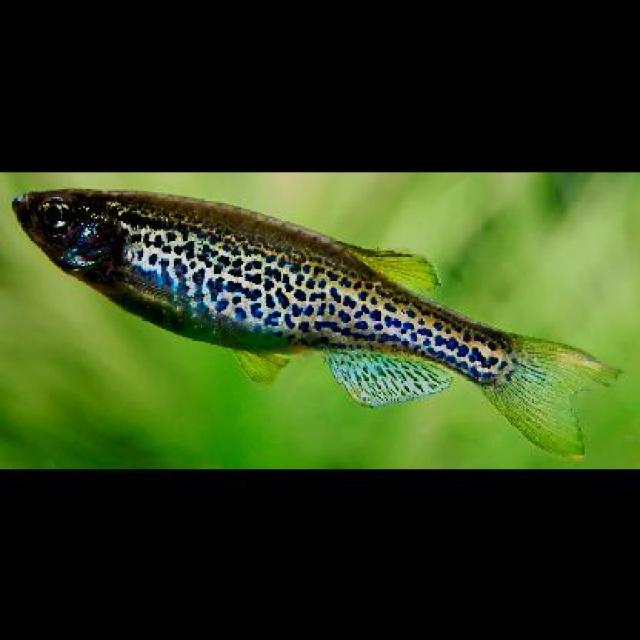ZebraFish: (10, 187, 618, 462)
